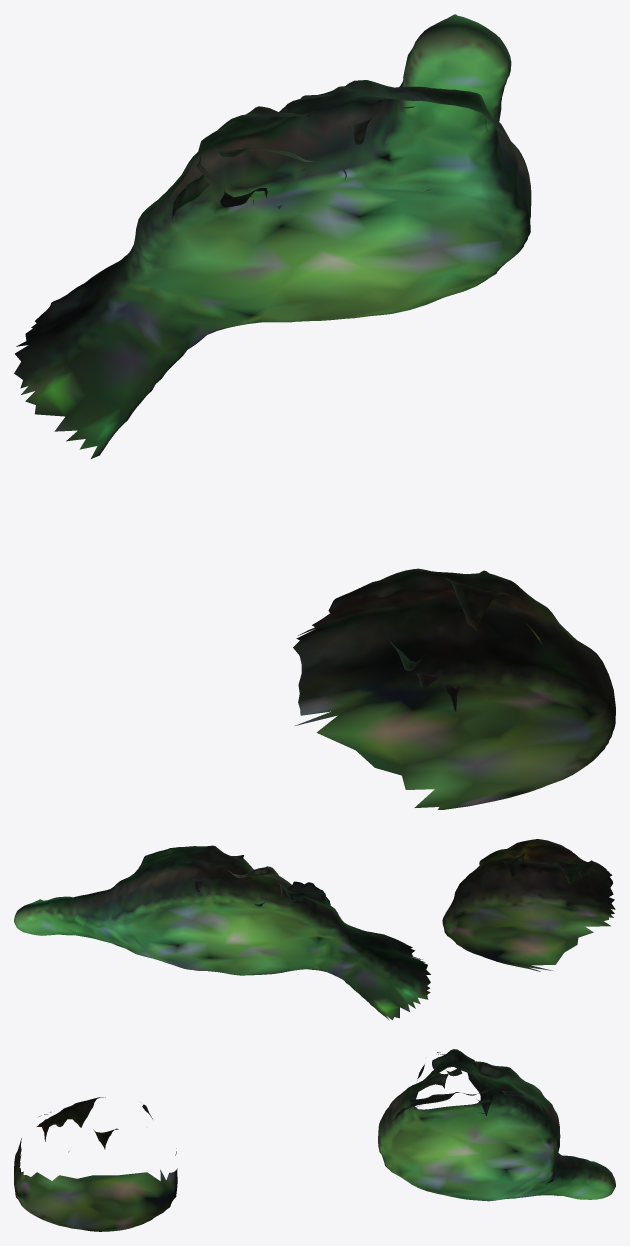
The model's file is prp_cave_rock_d_lite.glb.
3 views of the same model, one above another, from view 1: azimuth 30°, elevation 25°; view 2: azimuth 150°, elevation 25°; view 3: azimuth 270°, elevation 25° (orthographic). The views are drawn at different scales.
Parts seen in each view (by area): view 1: INST_prp_cave_rock_d_lite_rock; view 2: INST_prp_cave_rock_d_lite_rock; view 3: INST_prp_cave_rock_d_lite_rock.
Boxes of the visible parts, <box> form: INST_prp_cave_rock_d_lite_rock: <box>14,14,615,809</box>; INST_prp_cave_rock_d_lite_rock: <box>14,839,615,1020</box>; INST_prp_cave_rock_d_lite_rock: <box>14,1049,615,1231</box>.
Bounding box in the file's own units: 22.94 × 11.45 × 36.36.
